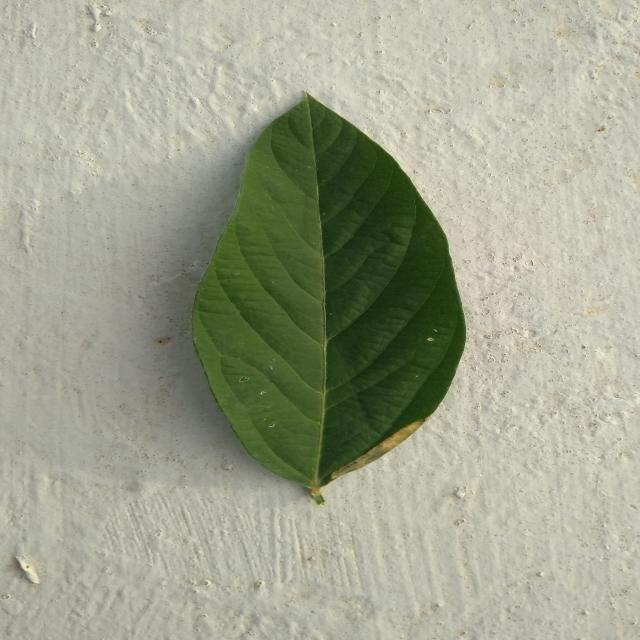pea: (193, 95, 464, 504)
